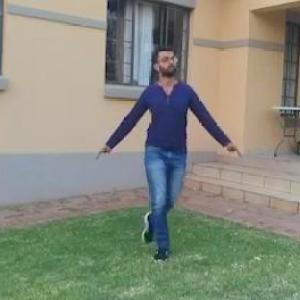land: (121, 65, 220, 222)
